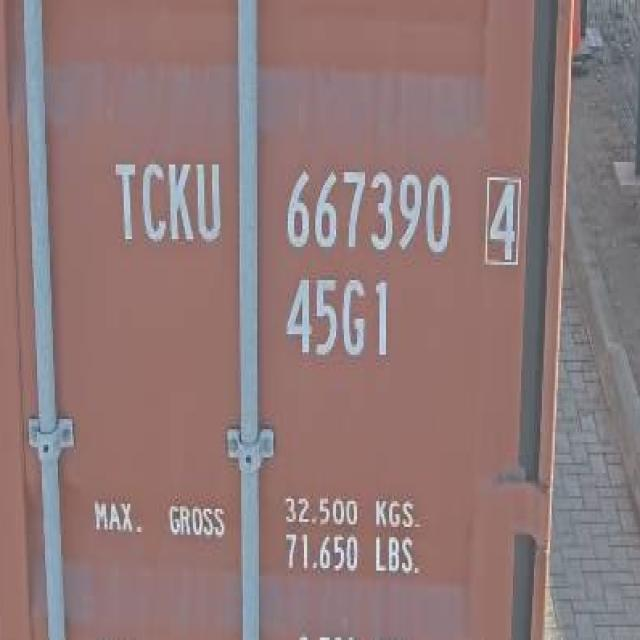dv: (477, 169, 529, 271)
owner: (111, 150, 227, 252)
serial: (281, 160, 456, 265)
size: (278, 270, 404, 366)
